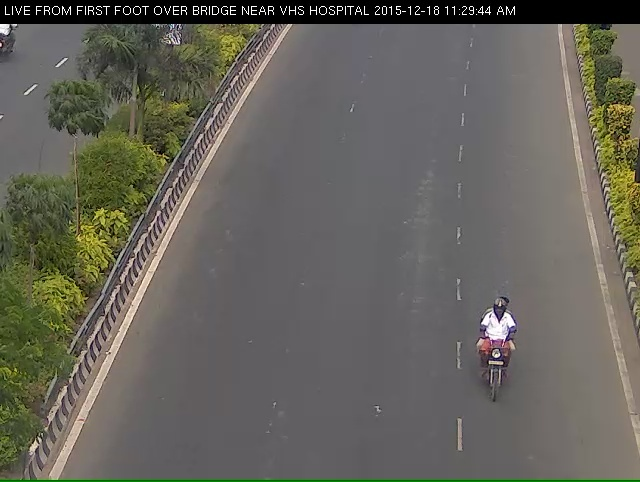Person: (468, 302, 523, 425)
